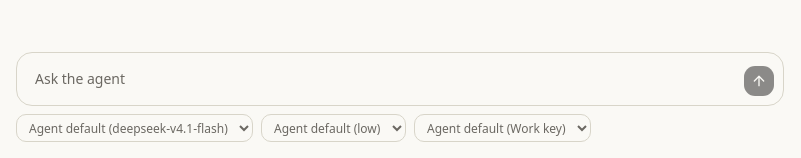
ChatPane › shows a run settings refusal and reverts the select
Select "high" in the dropdown named "Thinking": (334, 128) [261,114,406,142]
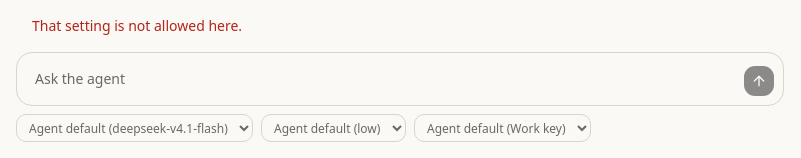
Check: the message reads "That setting is not allowed here.", box [32,16,242,35]
